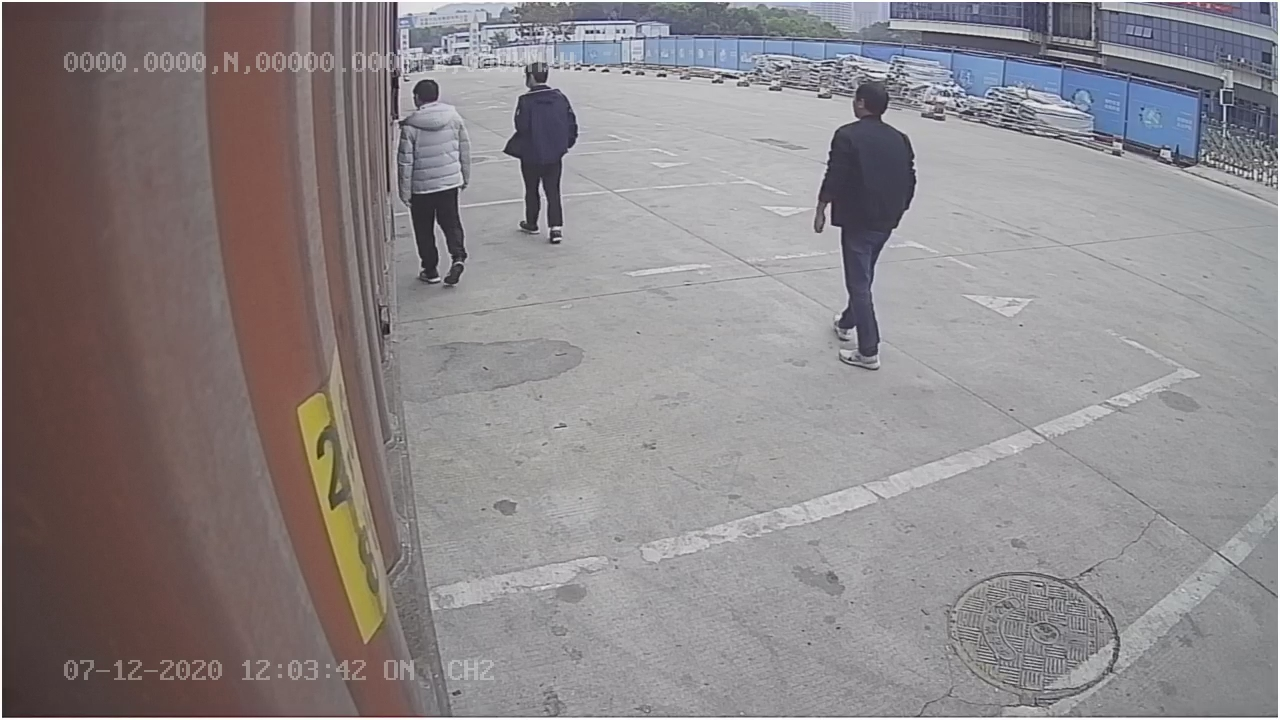person: (808, 79, 923, 373)
